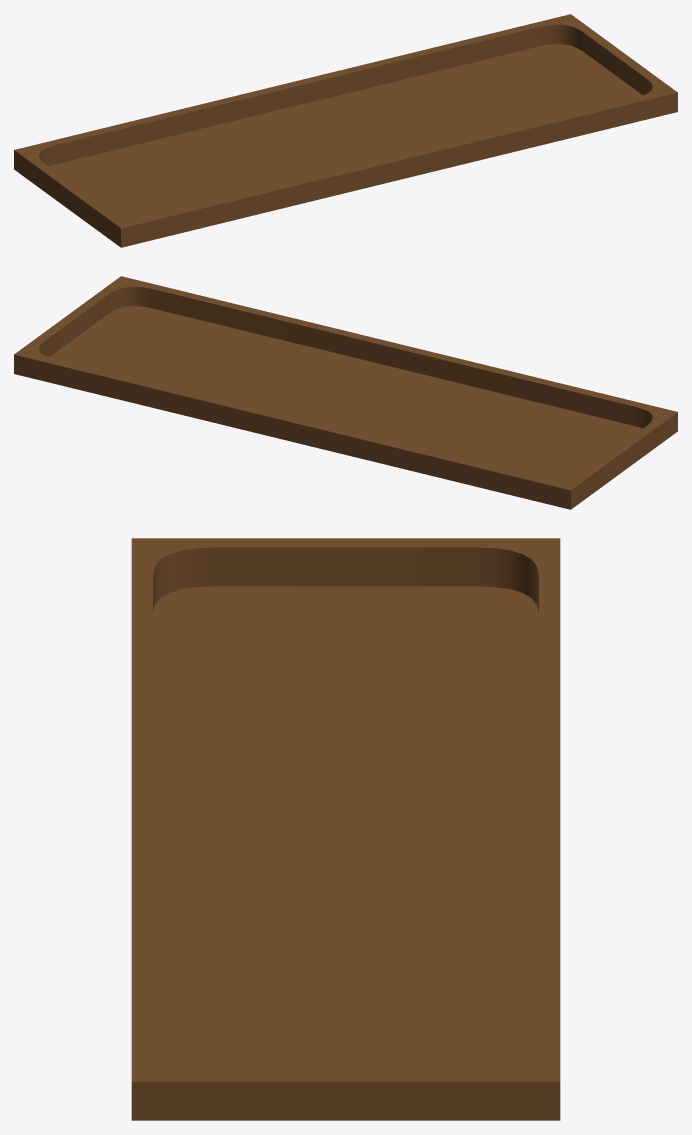
The model's file is Ceiling_B_3x1m_B.FBX.
3 views of the same model, one above another, from view 1: azimuth 30°, elevation 25°; view 2: azimuth 150°, elevation 25°; view 3: azimuth 270°, elevation 25° (orthographic). The views are drawn at different scales.
Visible parts, largest first — view 1: Ceiling_B_3x1m_B; view 2: Ceiling_B_3x1m_B; view 3: Ceiling_B_3x1m_B.
Boxes of the visible parts, <box> form: Ceiling_B_3x1m_B: <box>14,14,677,247</box>; Ceiling_B_3x1m_B: <box>14,276,677,509</box>; Ceiling_B_3x1m_B: <box>131,538,560,1120</box>.
Size of the model in its own units: 300 by 10 by 100.
